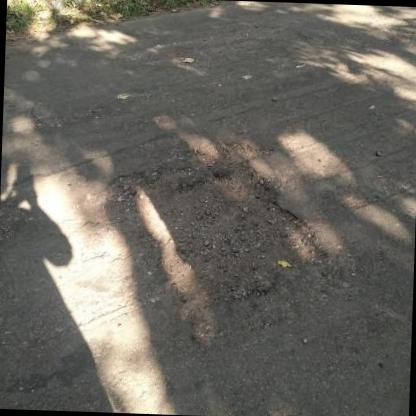pothole: (98, 154, 334, 314)
